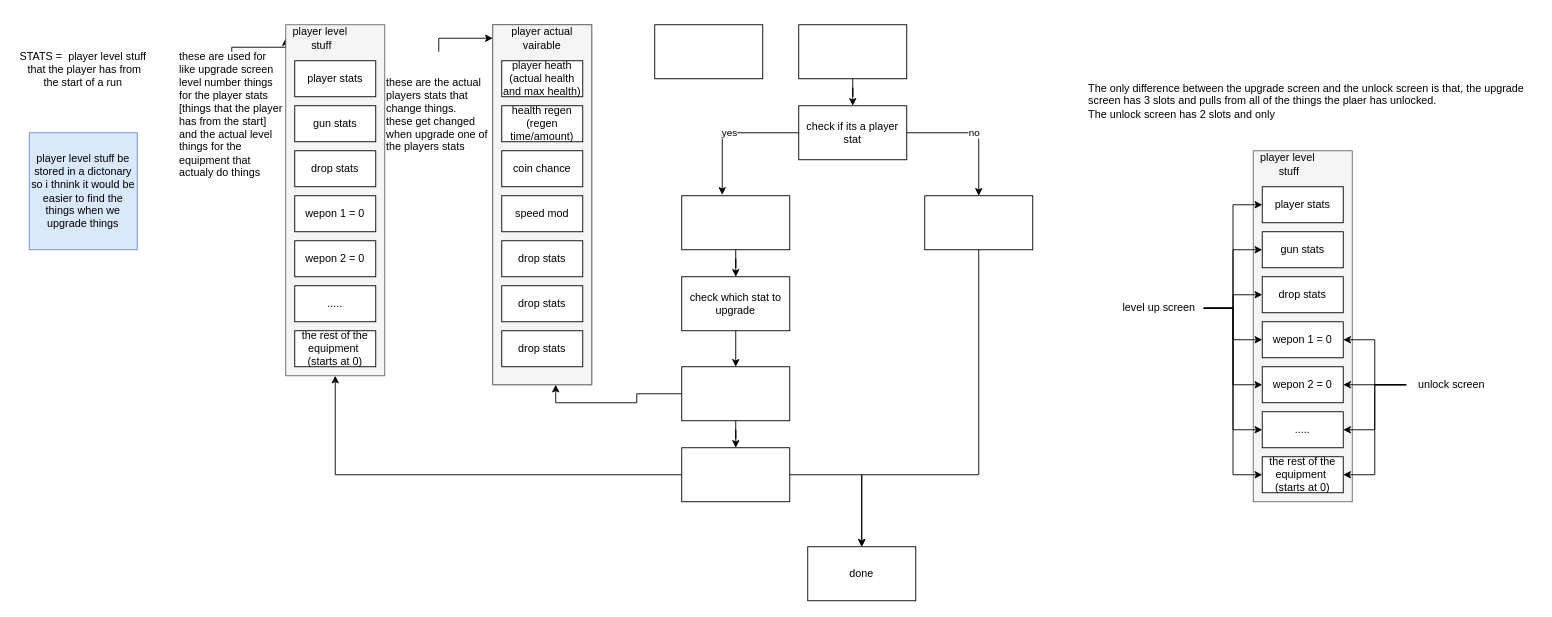
This 1552x617 diagram has some shape labels left out. Each missing label, with the centre of its shape:
% devide the selected items level by 1-5: point 735,222
increase the level in the player level thing: point 735,474
increase the thing: point 735,393
increase thing in level stat thing: point 978,222
once you choose what to upgrade: point 852,51
upgrading: point 708,51
